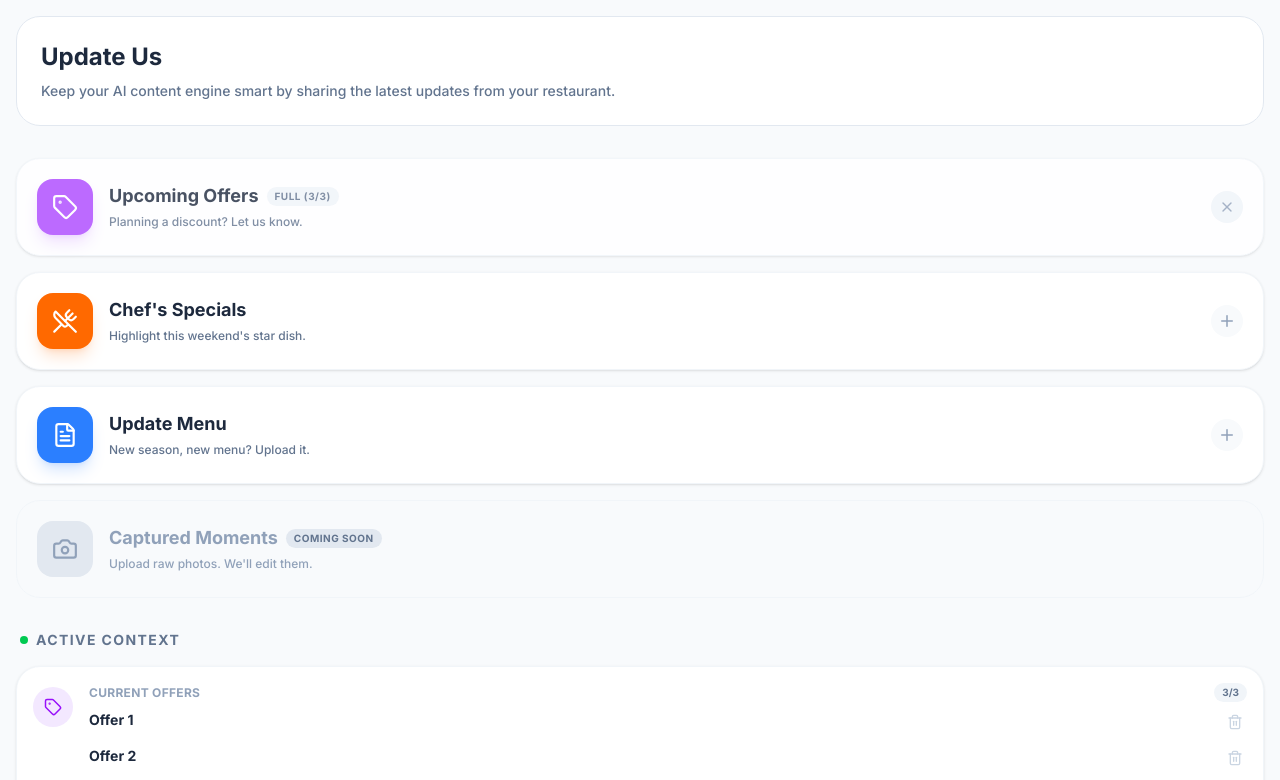
Test case: Inputs Component › Modal Interactions › should show notice when trying to add a 4th offer (max 3)
The width and height of the screenshot is (1280, 780).
What coordinates should you click on to do the following:
click the button "Upcoming Offers"
I would click on:
 (65, 207)
Its box is 16,158 -> 1264,256.
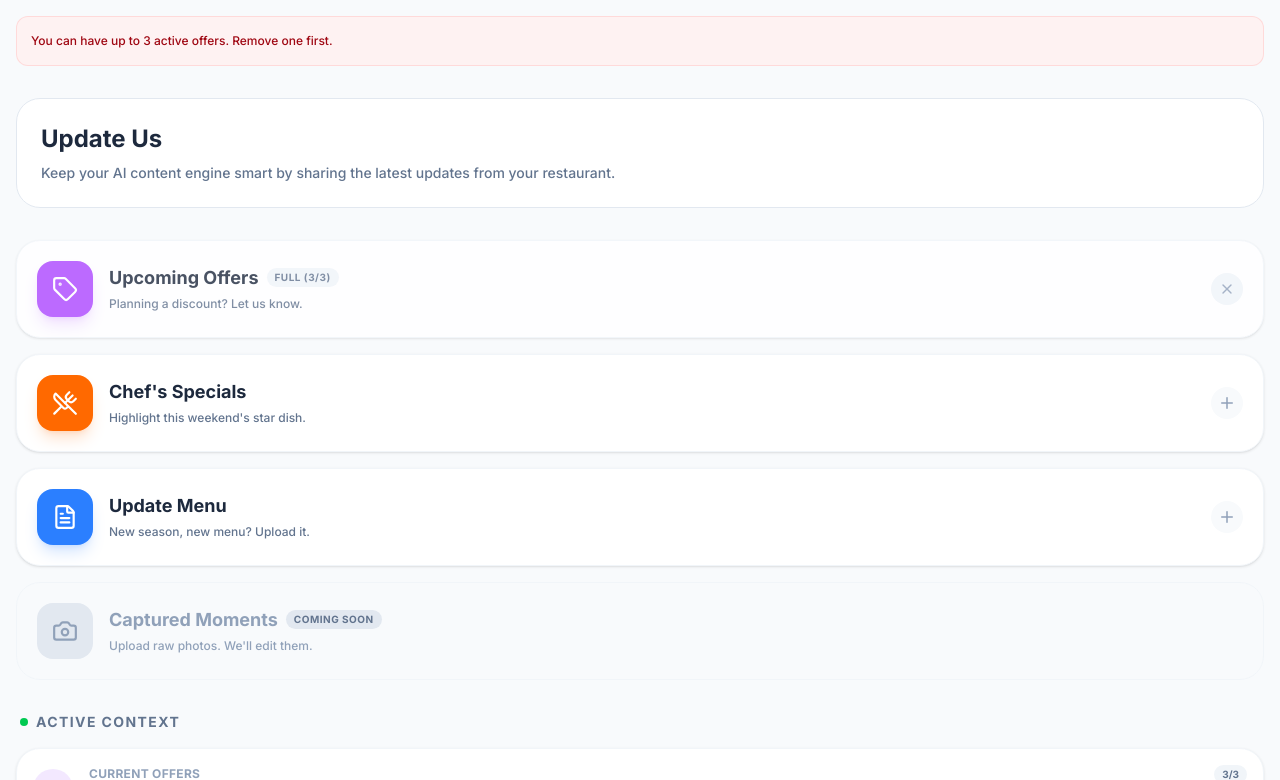
Expected: the text "You can have up to 3 active offers. Remove one first." is shown, 31,33 -> 333,48
